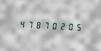eight: (33, 19, 40, 30)
five: (73, 21, 80, 32)
four: (17, 18, 24, 29)
seven: (25, 18, 32, 30), (41, 19, 48, 30)
two: (57, 20, 64, 31)
zero: (49, 19, 56, 31), (65, 20, 72, 32)
